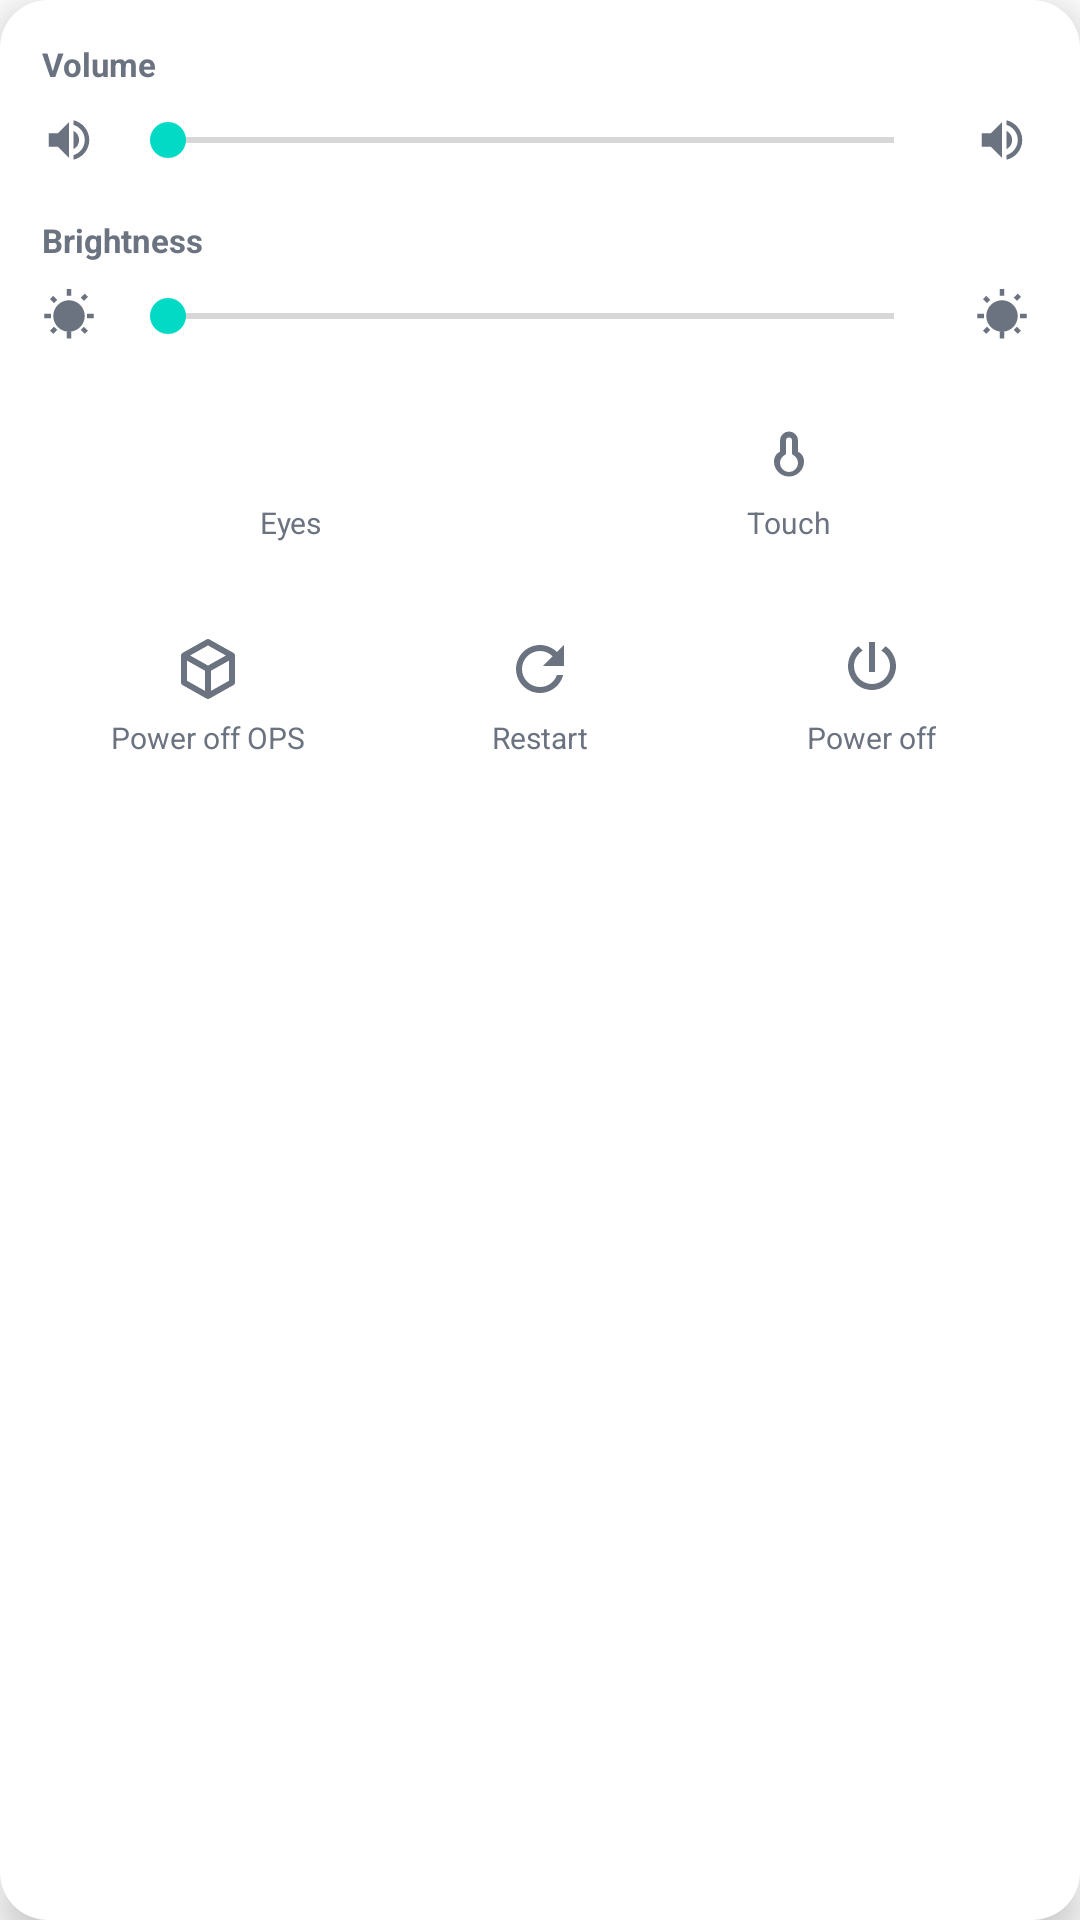

Named icons in this screenshot (1080 x 1920) and their centers, point (x, y):
Auto Brillo: point (1002, 314)
refresh: point (540, 669)
